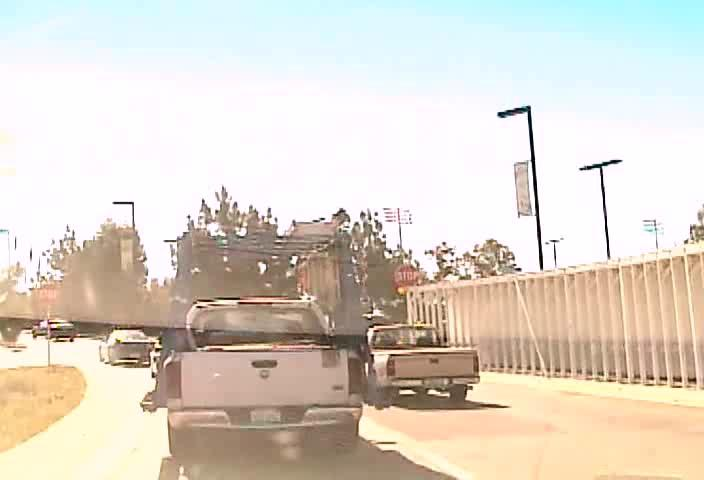stop: (393, 262, 419, 289)
